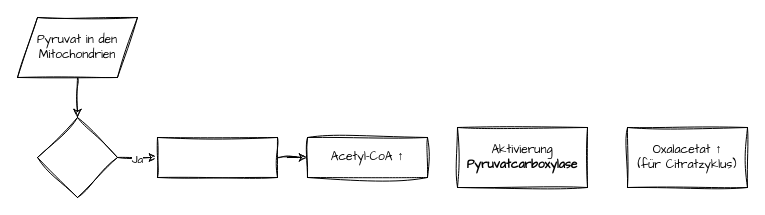
Image size: 765x215. Some labels were removed from this diagram. The centre of each missing label's shape, as x and y in pixels:
Fettsäureabbau ↑: point 217,157
Hunger-phase?: point 77,157
